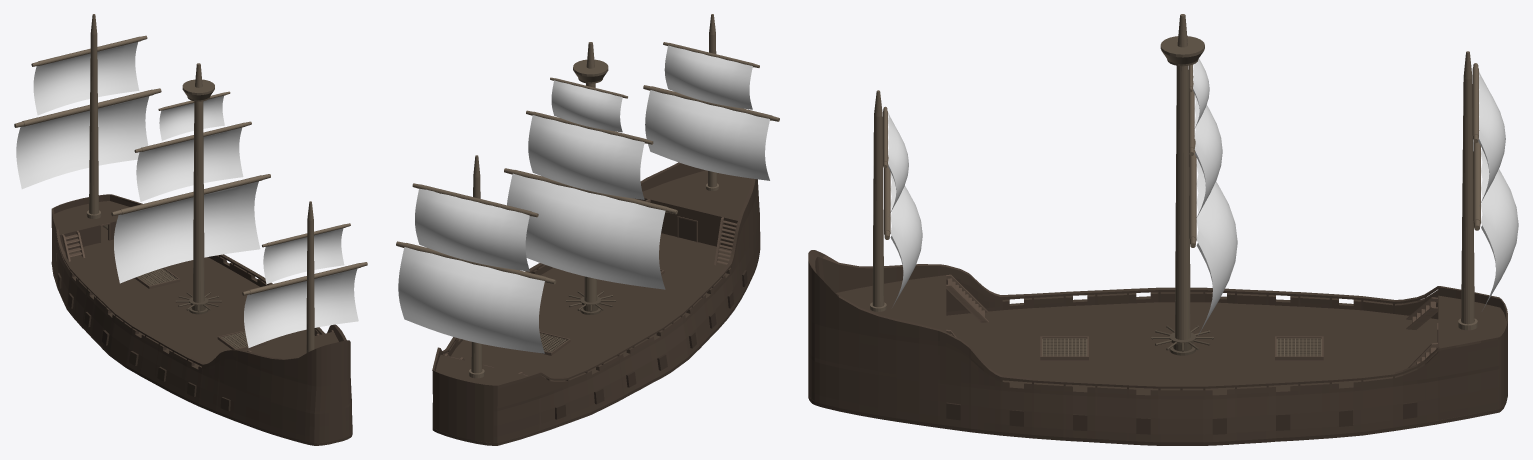
The model's file is ShipColored.fbx.
3 views of the same model, side by side, from view 1: azimuth 30°, elevation 25°; view 2: azimuth 150°, elevation 25°; view 3: azimuth 270°, elevation 25° (orthographic). The views are drawn at different scales.
Parts seen in each view (by area): view 1: MainShipMesh, SailMesh (×3), SailMesh1, SailMesh2, SailMesh4, MastBarMesh (×3), MidMastMesh, FrontMastMesh, SailMesh3, BackMastMesh, FloorShipMesh, MastBarMesh1 (+6 smaller); view 2: MainShipMesh, SailMesh (×3), SailMesh2, SailMesh1, SailMesh4, SailMesh3, MastBarMesh (×3), FloorShipMesh, FrontMastMesh, LookoutMesh, MastBarMesh1, UpperStairsMesh (+4 smaller); view 3: MainShipMesh, SailMesh (×3), MidMastMesh, FrontMastMesh, FloorShipMesh, BackMastMesh, SailMesh1, SailMesh2, MastBarMesh (×2), SailMesh4, LookoutMesh, GrateMesh1 (+4 smaller).
Part boxes in pixels (left/top/right/bottom): MainShipMesh: left=51, top=194, right=352, bottom=443; SailMesh (×3): left=16, top=96, right=358, bottom=347; SailMesh1: left=33, top=42, right=139, bottom=115; SailMesh2: left=136, top=127, right=243, bottom=201; SailMesh4: left=263, top=228, right=344, bottom=284; MastBarMesh (×3): left=14, top=88, right=367, bottom=295; MidMastMesh: left=193, top=63, right=204, bottom=302; FrontMastMesh: left=86, top=14, right=101, bottom=218; SailMesh3: left=159, top=95, right=224, bottom=140; BackMastMesh: left=306, top=201, right=314, bottom=353; FloorShipMesh: left=51, top=262, right=352, bottom=445; MastBarMesh1: left=31, top=35, right=147, bottom=66; MainShipMesh: left=432, top=162, right=760, bottom=442; SailMesh (×3): left=398, top=90, right=769, bottom=353; SailMesh2: left=528, top=115, right=644, bottom=199; SailMesh1: left=415, top=188, right=529, bottom=271; SailMesh4: left=664, top=45, right=752, bottom=109; SailMesh3: left=551, top=80, right=622, bottom=132; MastBarMesh (×3): left=396, top=85, right=779, bottom=284; FloorShipMesh: left=432, top=248, right=760, bottom=445; FrontMastMesh: left=469, top=155, right=484, bottom=378; LookoutMesh: left=573, top=59, right=608, bottom=83; MastBarMesh1: left=412, top=183, right=538, bottom=217; UpperStairsMesh: left=714, top=217, right=737, bottom=265; MainShipMesh: left=808, top=250, right=1507, bottom=442; SailMesh (×3): left=890, top=149, right=1518, bottom=335; MidMastMesh: left=1175, top=14, right=1190, bottom=339; FrontMastMesh: left=1458, top=51, right=1477, bottom=330; FloorShipMesh: left=808, top=393, right=1507, bottom=445; BackMastMesh: left=870, top=90, right=886, bottom=311; SailMesh1: left=1478, top=71, right=1505, bottom=205; SailMesh2: left=1194, top=94, right=1222, bottom=217; MastBarMesh (×2): left=1189, top=130, right=1480, bottom=247; SailMesh4: left=888, top=112, right=908, bottom=216; LookoutMesh: left=1160, top=36, right=1204, bottom=66; GrateMesh1: left=1042, top=338, right=1087, bottom=356.
Size of the model in its own units: 2419 by 3973 by 6746.
